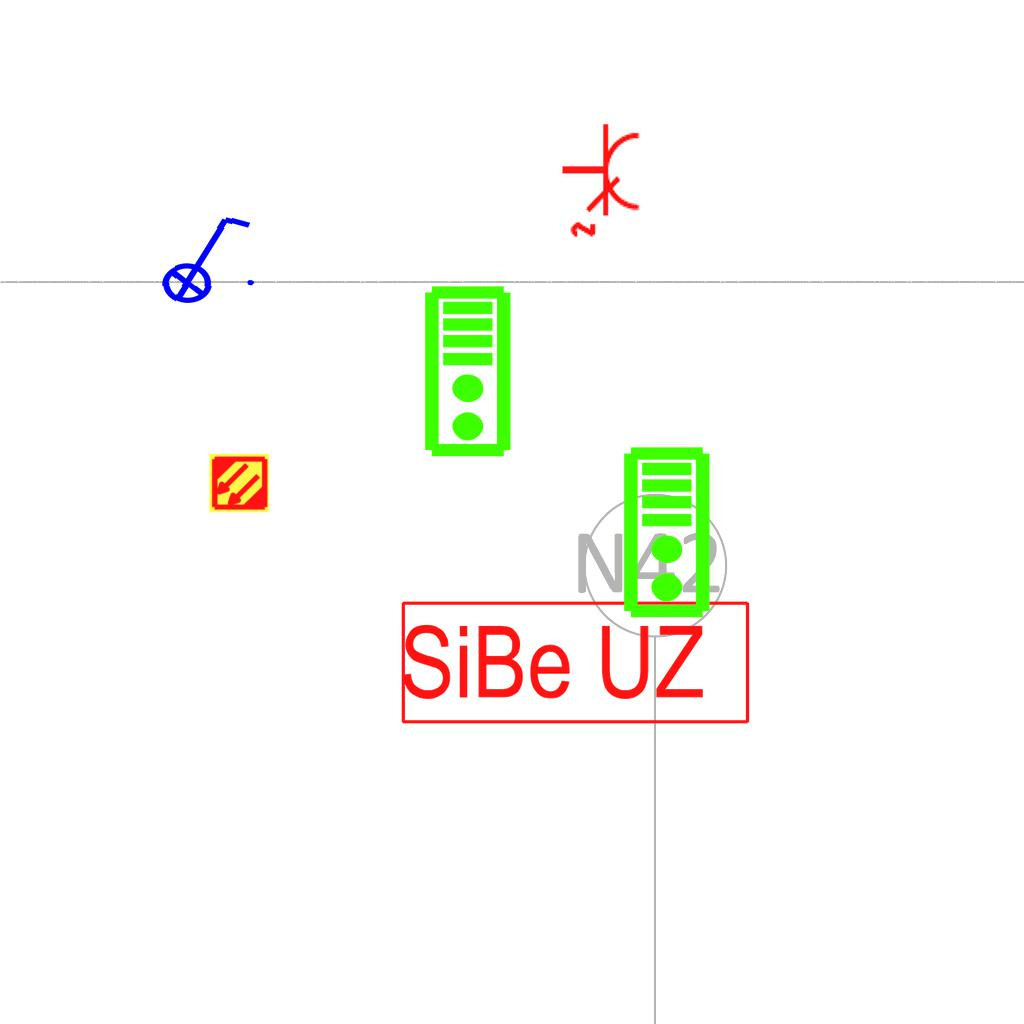ASR_Ansaugrauchmelder: (208, 452, 270, 514)
Ausschalter_beleuchtet: (147, 208, 261, 306)
Gegensprechanlage_mit_Video: (422, 284, 517, 460), (621, 445, 716, 621)
Schukosteckdose_mehrfach: (556, 119, 644, 240)
Zentrale_Sicherheitsbeleuchtung: (398, 598, 755, 728)
